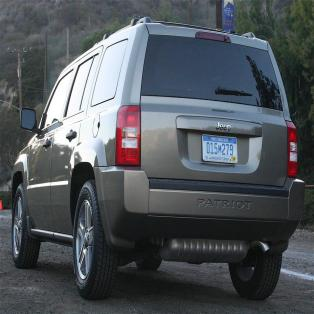Auto: (10, 14, 308, 304)
